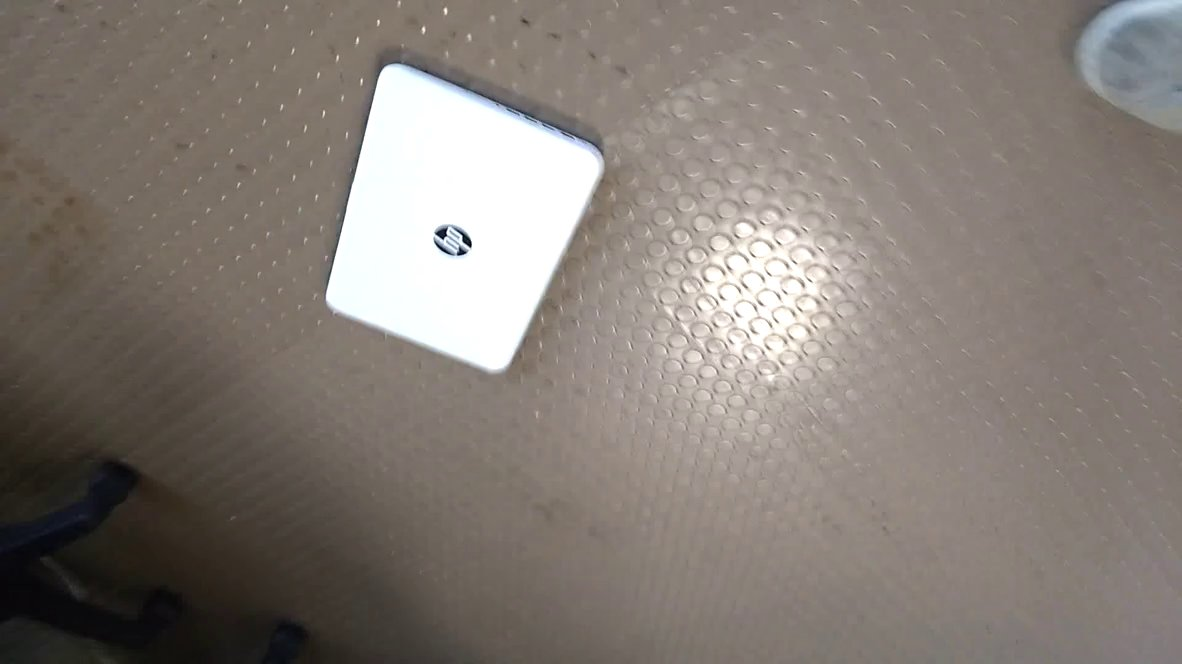laptop: (320, 55, 609, 384)
